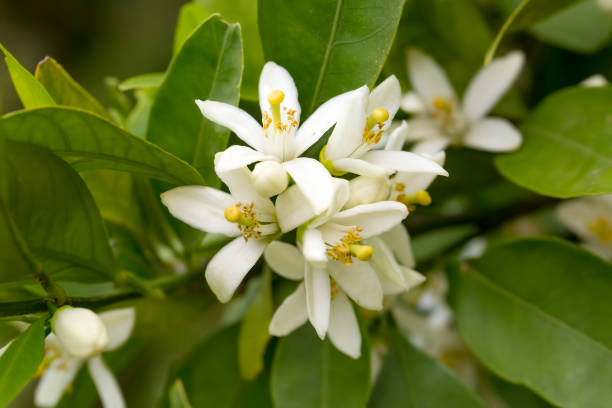flower: (142, 156, 335, 296), (188, 55, 340, 212), (379, 47, 546, 178), (265, 232, 383, 360), (330, 82, 452, 189), (313, 195, 392, 328)
